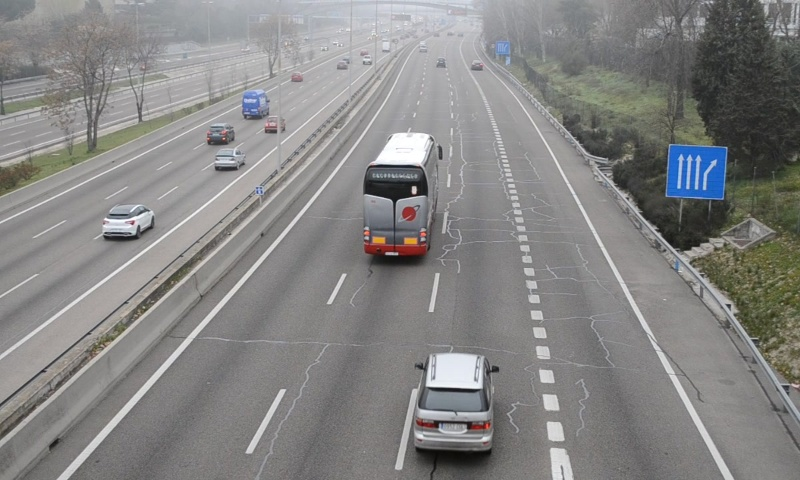bus: (362, 132, 439, 259)
car: (410, 355, 498, 455), (470, 58, 484, 71)
